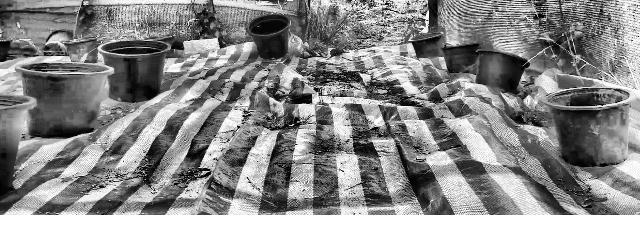pot: (17, 56, 118, 140), (539, 88, 640, 165), (96, 34, 180, 104), (0, 91, 40, 196), (477, 46, 529, 97), (242, 17, 300, 59), (442, 43, 482, 76), (409, 34, 447, 61), (65, 40, 101, 67), (47, 25, 73, 55)
